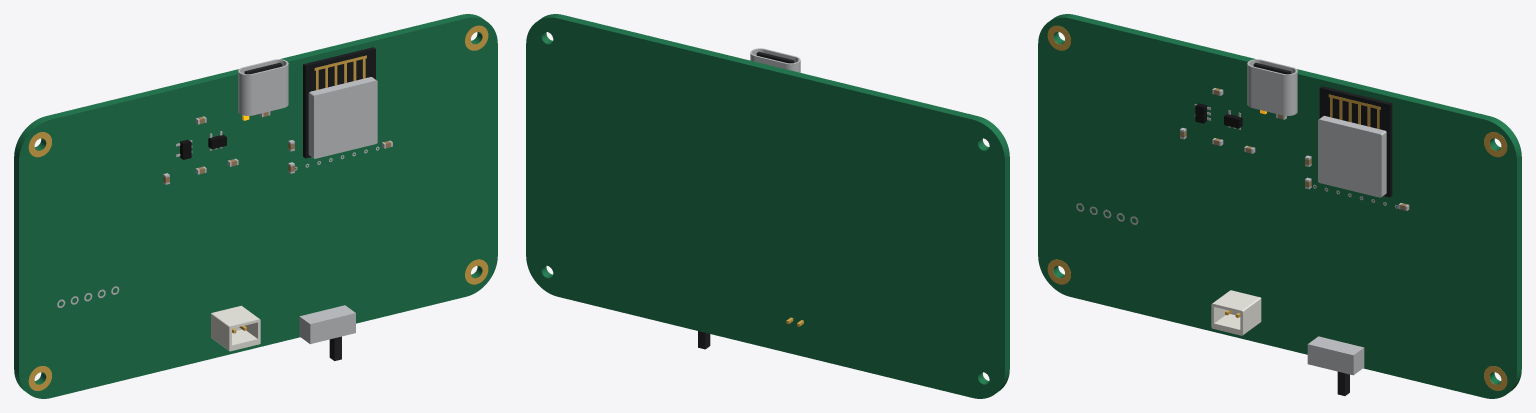
The model's file is board.glb.
The picture shows the model from 3 angles, left to right: view 1: azimuth 30°, elevation 25°; view 2: azimuth 150°, elevation 25°; view 3: azimuth 330°, elevation 25°; orthographic projection.
Visible parts, largest first — view 1: board; view 2: board; view 3: board.
Part boxes in pixels (bbox=[...]): board: bbox=[14, 14, 497, 398]; board: bbox=[526, 14, 1009, 398]; board: bbox=[1038, 14, 1521, 398].
Size of the model in its own units: 90 by 55.4 by 9.1.
